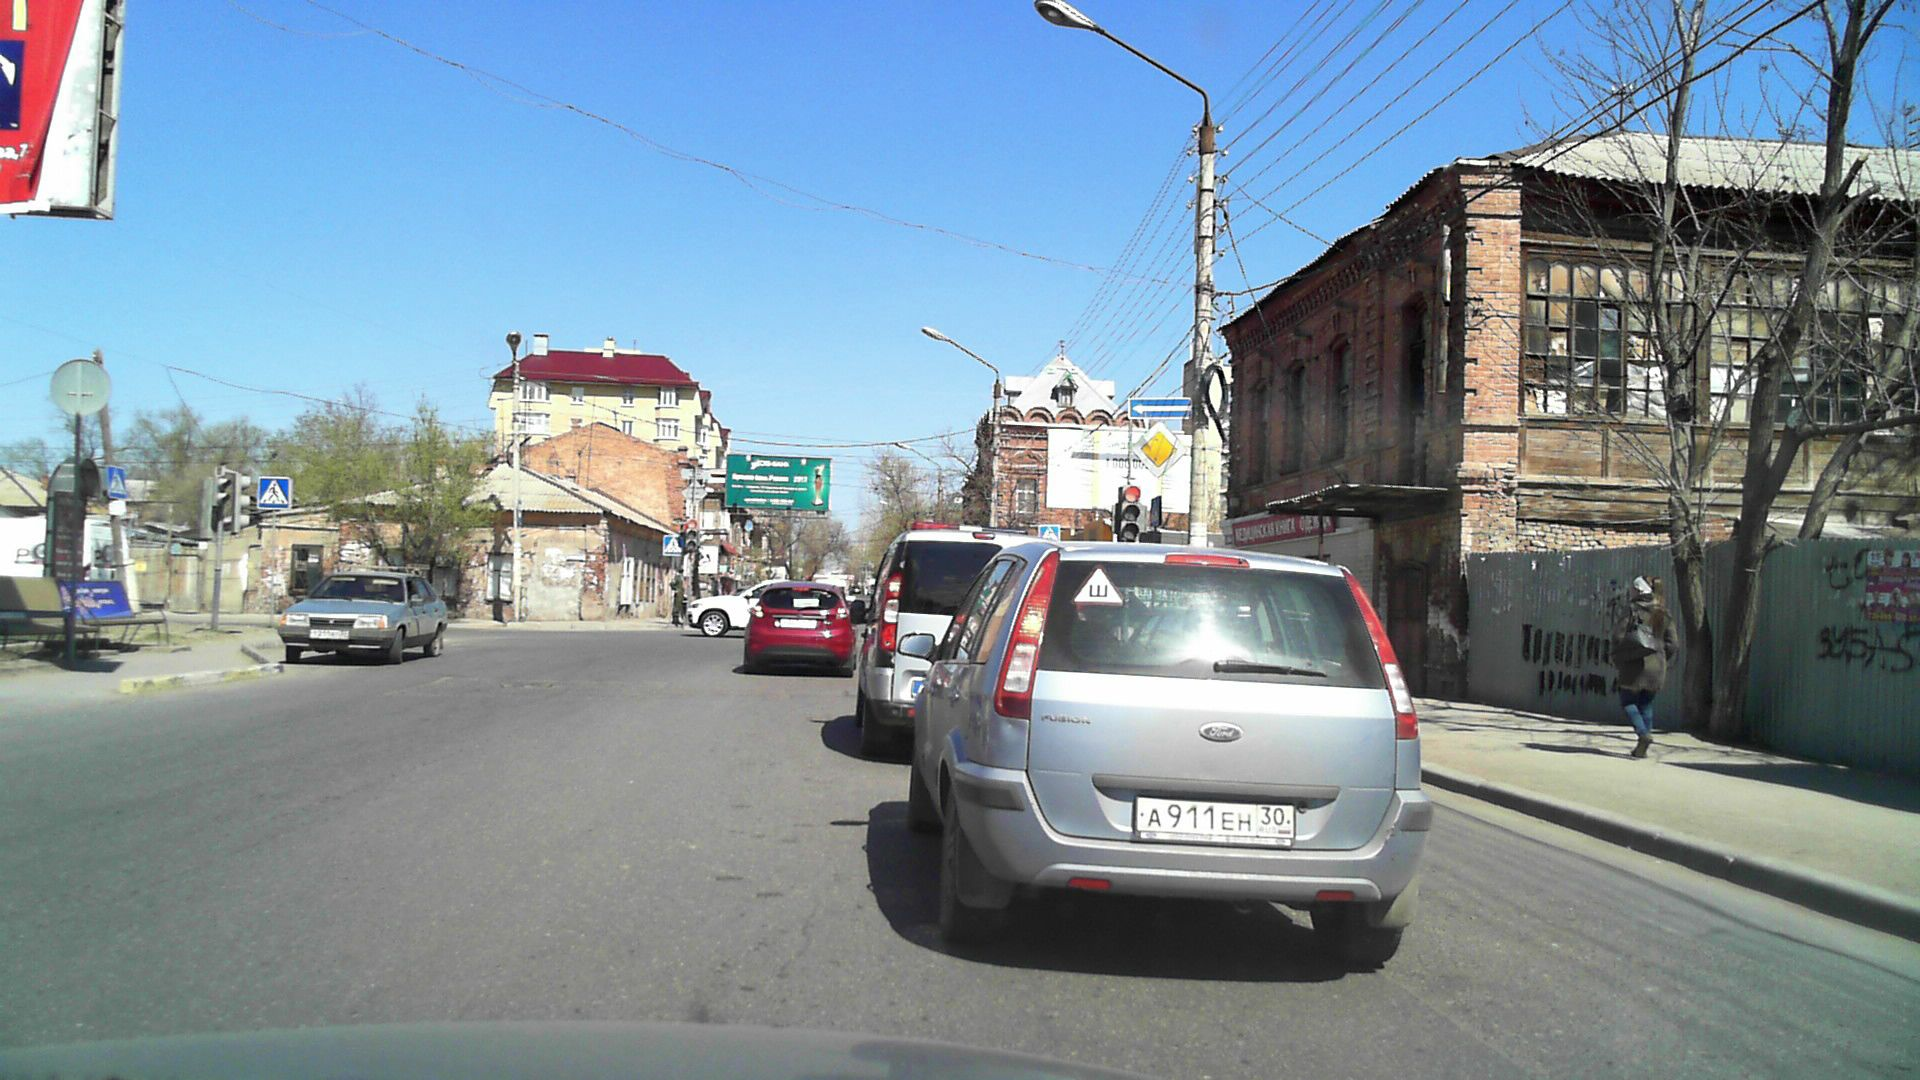One-Way Traffic: (1127, 397, 1193, 419)
